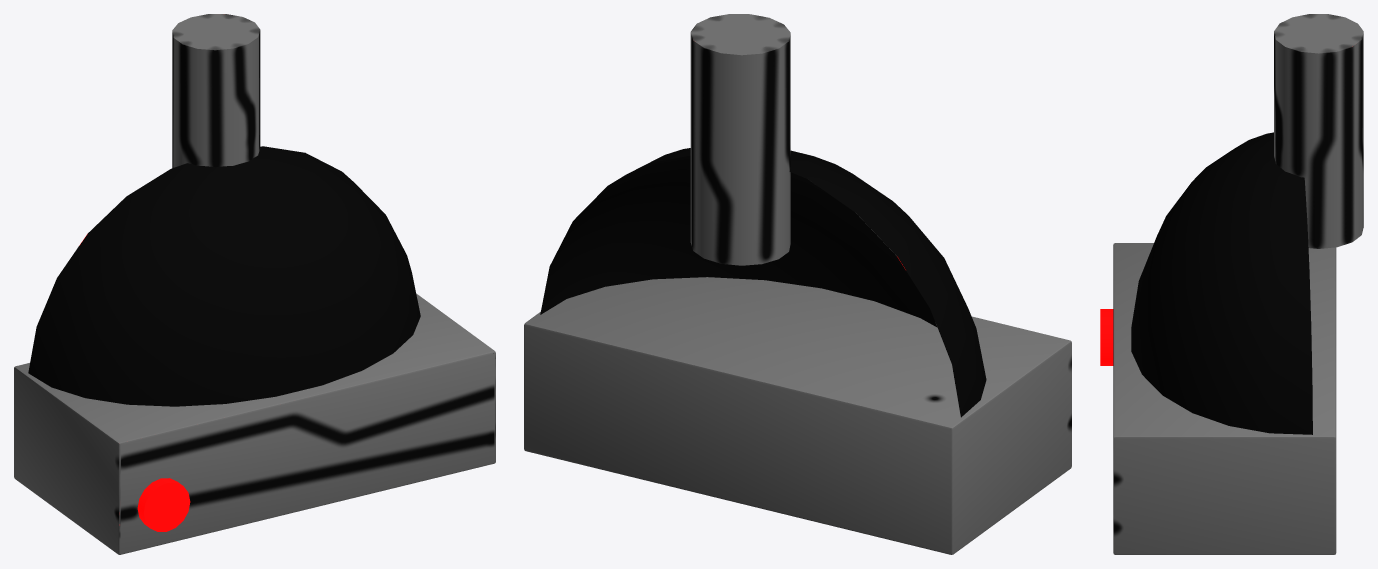
Rendered from Ceiling Turret.fbx.
The picture shows the model from 3 angles, left to right: view 1: azimuth 30°, elevation 25°; view 2: azimuth 150°, elevation 25°; view 3: azimuth 270°, elevation 25°; orthographic projection. The views are drawn at different scales.
Parts seen in each view (by area): view 1: Dome, TurretBase, Barrel, Cylinder001; view 2: TurretBase, Dome, Barrel; view 3: Dome, TurretBase, Barrel, Cylinder001.
Part boxes in pixels (<box>): Dome: <box>28,146,420,406</box>; TurretBase: <box>14,293,495,554</box>; Barrel: <box>172,14,260,168</box>; Cylinder001: <box>137,478,190,531</box>; TurretBase: <box>524,277,1071,554</box>; Dome: <box>540,148,986,417</box>; Barrel: <box>690,14,790,265</box>; Dome: <box>1131,132,1312,434</box>; TurretBase: <box>1113,243,1336,554</box>; Barrel: <box>1274,14,1363,248</box>; Cylinder001: <box>1100,309,1113,365</box>.
Bounding box in the file's own units: 35.4 × 36.32 × 20.27.
Materials: 1 (1 with a texture image).
